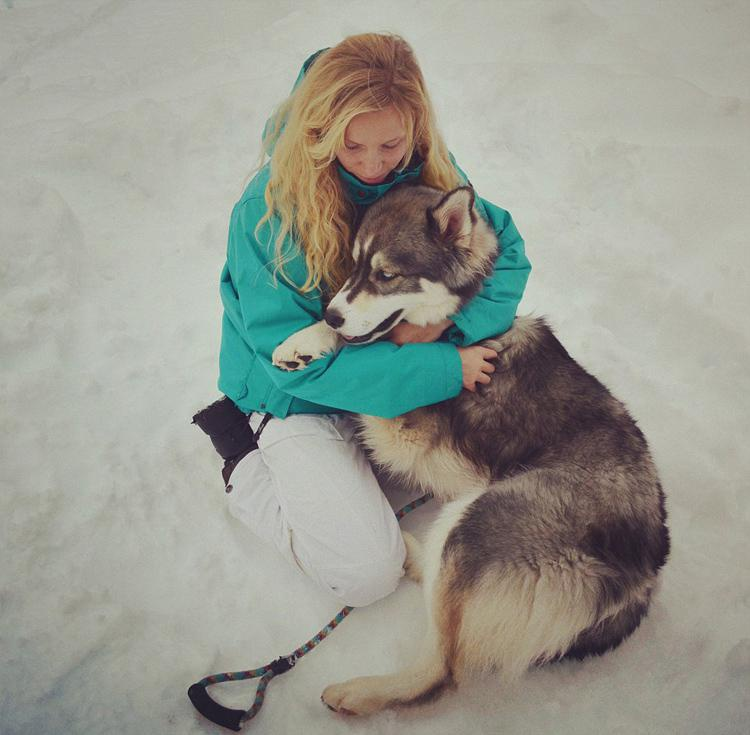cat: (324, 296, 668, 731)
dog: (192, 0, 641, 734)
